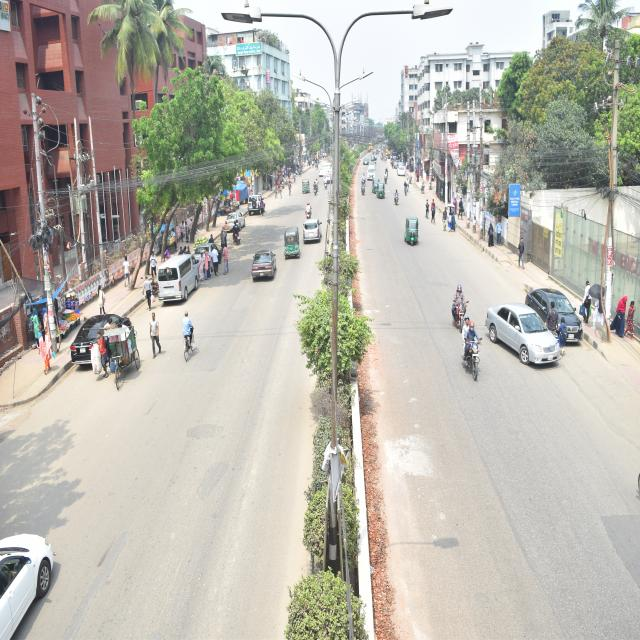car: (60, 310, 162, 406), (480, 288, 562, 393), (521, 264, 585, 358), (242, 234, 289, 300), (292, 204, 329, 260), (191, 227, 228, 283), (217, 197, 261, 239), (242, 189, 268, 228)
microbus: (148, 240, 214, 317), (366, 162, 378, 186)
motorbike: (456, 313, 486, 386), (446, 274, 474, 332), (226, 212, 244, 252), (297, 191, 317, 223), (310, 178, 324, 203), (393, 178, 401, 219), (384, 164, 391, 186), (359, 179, 366, 200)
